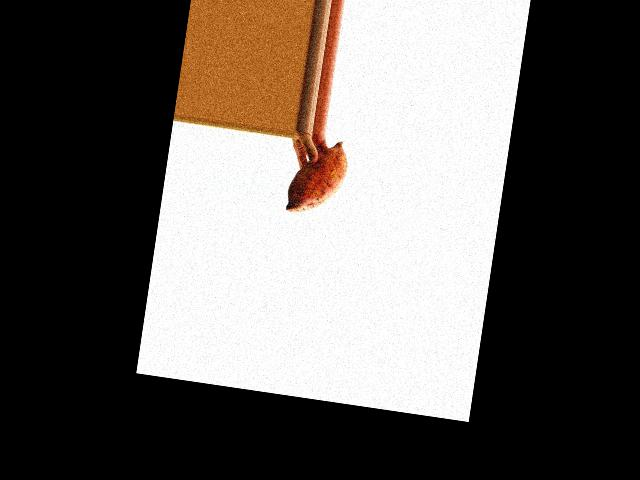sweet_potato: (282, 137, 355, 221)
